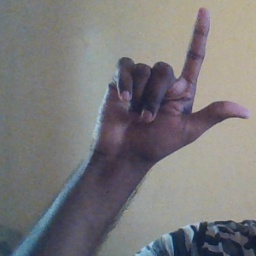L: (95, 6, 251, 160)
